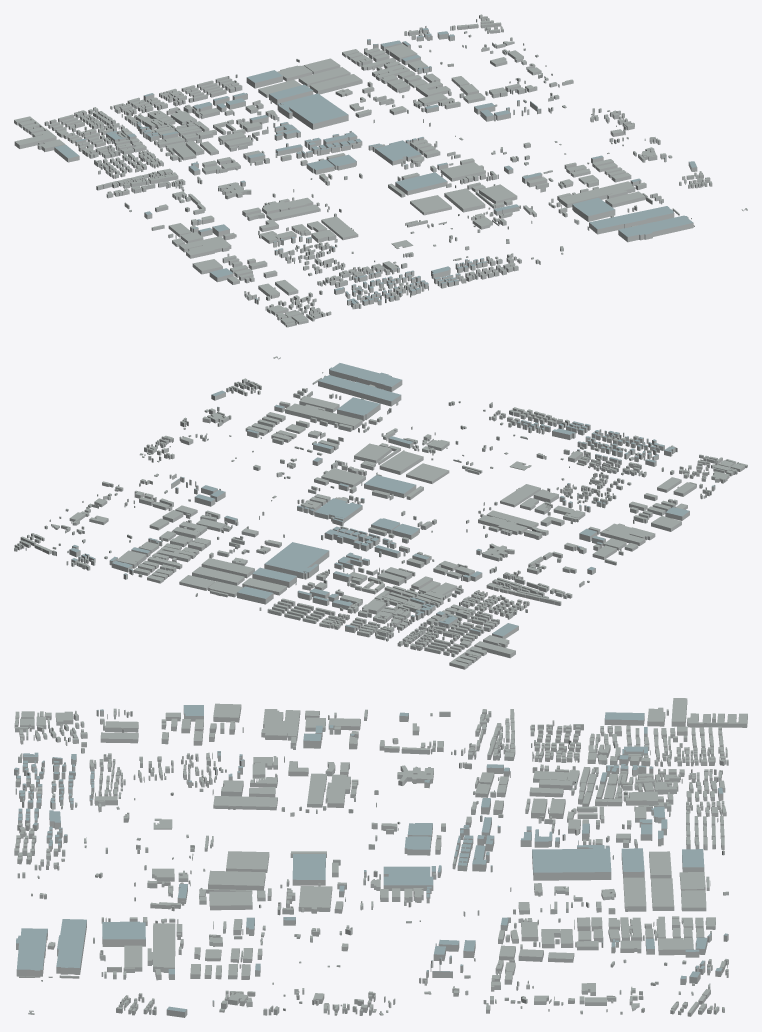
The model's file is far.glb.
3 renders of one model, top to bottom at view 1: azimuth 30°, elevation 25°; view 2: azimuth 150°, elevation 25°; view 3: azimuth 270°, elevation 25°, orthographic. The views are drawn at different scales.
Bounding box in the file's own units: 2190 × 25.84 × 2159.
